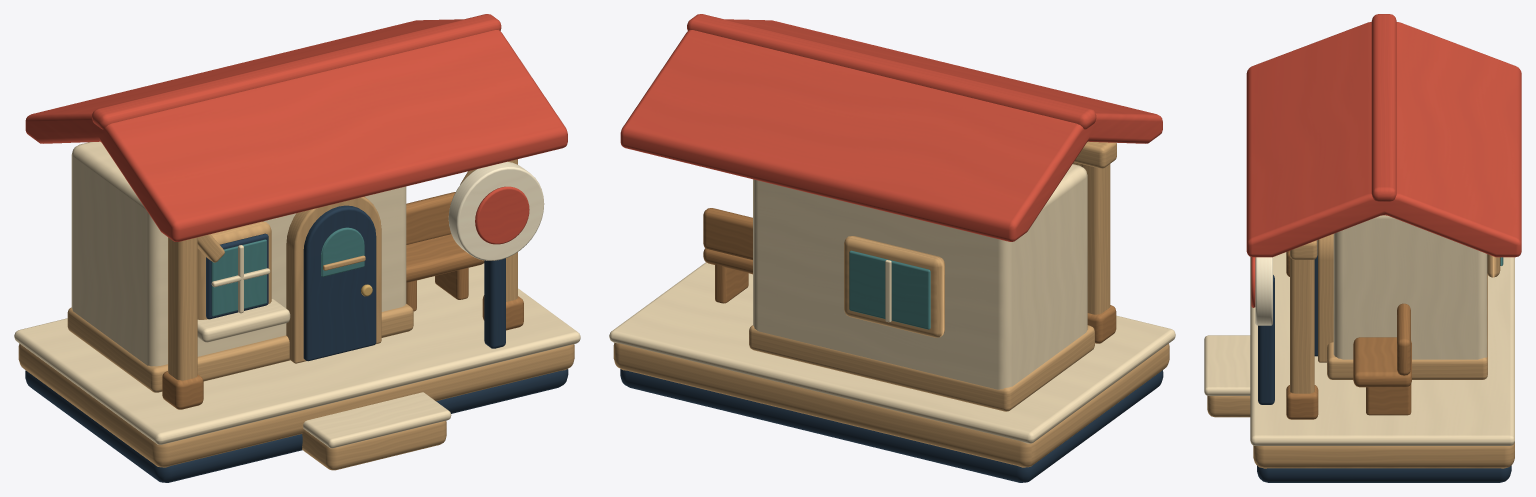
File: original-station-circle.glb
3 renders of one model, left to right at view 1: azimuth 30°, elevation 25°; view 2: azimuth 150°, elevation 25°; view 3: azimuth 270°, elevation 25°, orthographic. The views are drawn at different scales.
Parts seen in each view (by area): view 1: original-station-circle; view 2: original-station-circle; view 3: original-station-circle.
Part boxes in pixels (x1=…): original-station-circle: x1=14, y1=14, x2=580, y2=482; original-station-circle: x1=609, y1=14, x2=1175, y2=482; original-station-circle: x1=1204, y1=14, x2=1521, y2=482.
Bounding box in the file's own units: 3.05 × 2.22 × 2.17.
Materials: 1 (1 with a texture image).
